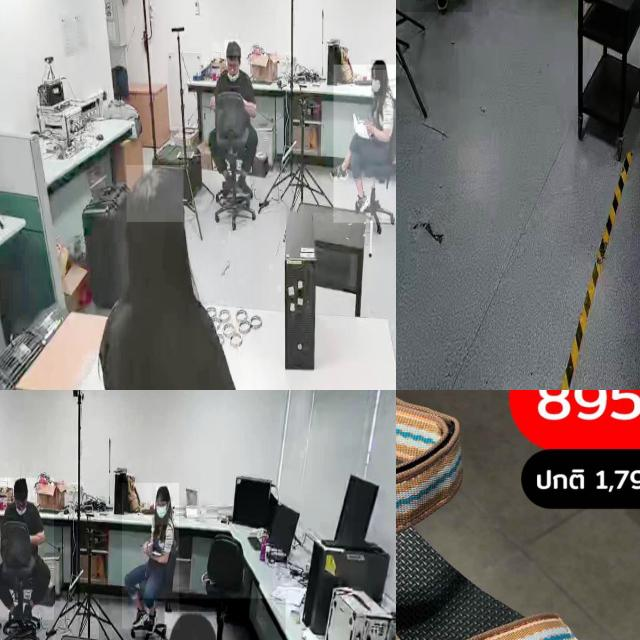Sandals: (396, 390, 640, 640)
face_mask: (371, 68, 383, 96), (156, 502, 170, 524)
face_nomask: (226, 60, 240, 78)
hand_noglove: (364, 120, 374, 138), (142, 539, 150, 556)
head_nohelmet: (126, 165, 184, 223), (164, 611, 217, 640), (155, 484, 171, 501), (224, 40, 240, 56), (13, 478, 27, 493), (371, 58, 387, 71)
person: (92, 164, 251, 390), (333, 64, 396, 223), (122, 483, 180, 629), (0, 477, 54, 620), (212, 42, 262, 190)
shoes: (351, 190, 369, 220), (219, 172, 238, 200), (234, 172, 252, 198), (144, 607, 160, 634), (328, 162, 349, 181), (132, 606, 148, 628), (430, 0, 450, 16)
